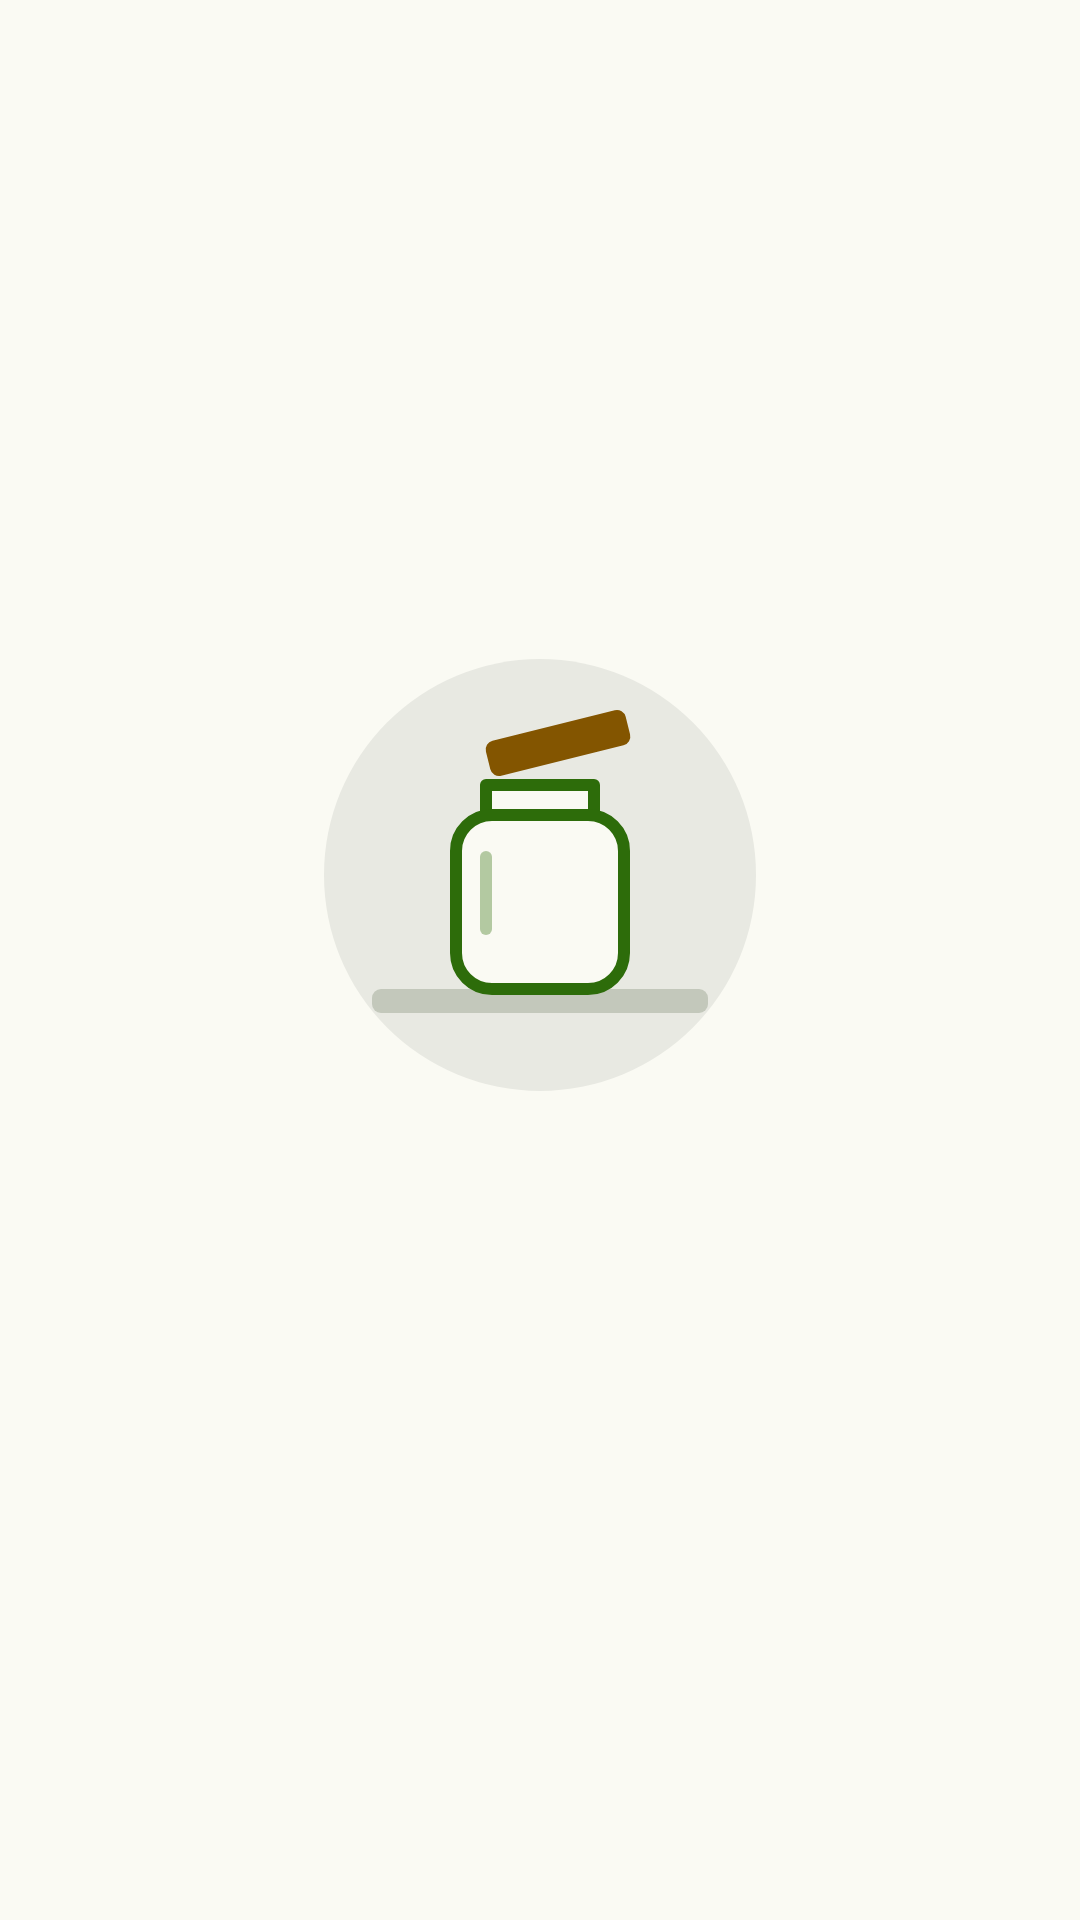

Where to tap for icons on this 1080px x 1920px app screen, as point (x, y):
ill empty pantry: point (540, 861)
